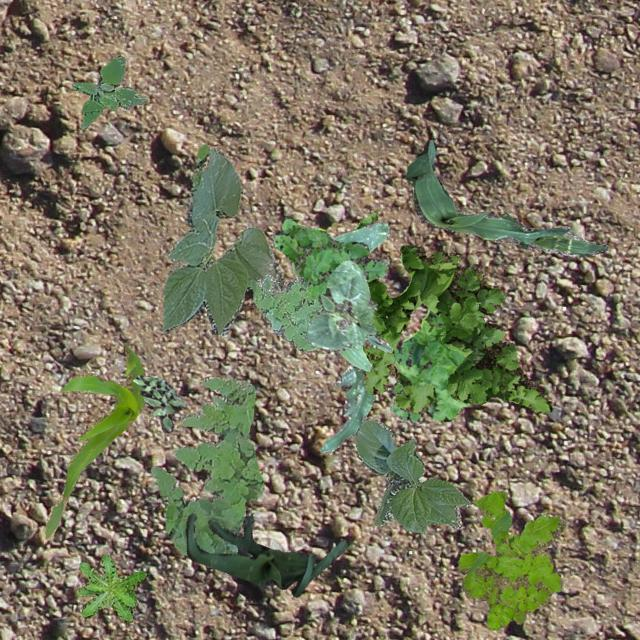crop: (404, 138, 606, 255), (162, 144, 284, 336), (44, 344, 144, 540), (291, 220, 391, 370), (184, 512, 346, 596), (354, 418, 470, 532), (304, 258, 376, 350), (318, 362, 374, 452)
weed: (354, 212, 552, 412), (148, 376, 262, 554), (458, 489, 564, 628), (272, 218, 388, 298), (388, 308, 468, 422), (248, 272, 322, 350), (70, 55, 146, 128), (76, 554, 146, 622), (132, 374, 184, 432)
